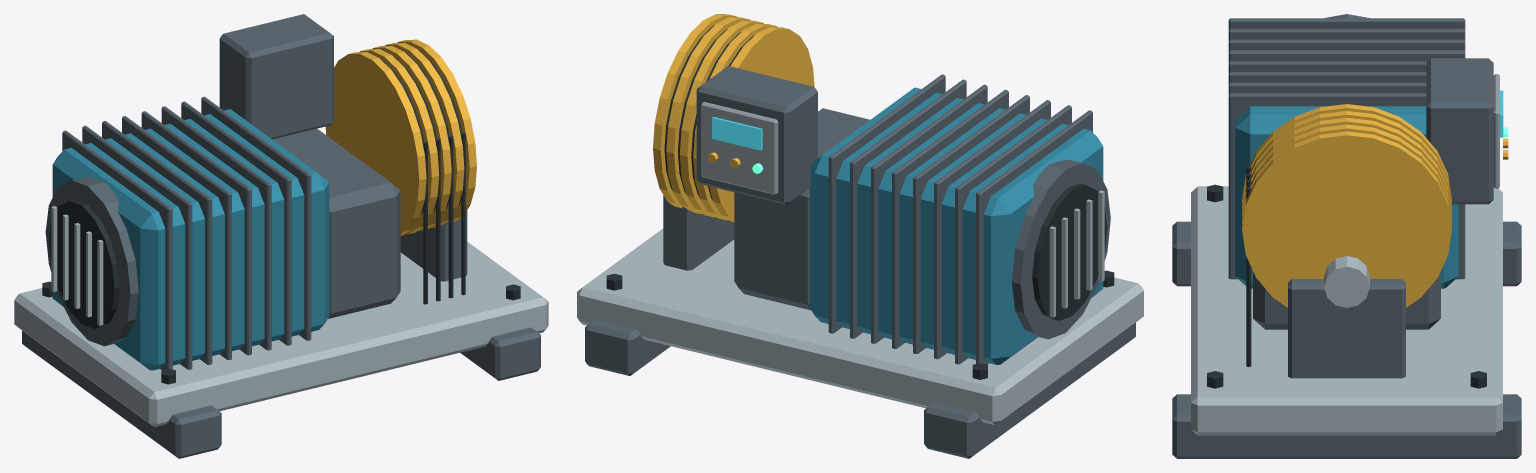
The model's file is 01_elevator_drive_unit.glb.
3 views of the same model, side by side, from view 1: azimuth 30°, elevation 25°; view 2: azimuth 150°, elevation 25°; view 3: azimuth 270°, elevation 25° (orthographic). The views are drawn at different scales.
Parts seen in each view (by area): view 1: 01_elevator_drive_unit; view 2: 01_elevator_drive_unit; view 3: 01_elevator_drive_unit.
Boxes of the visible parts, <box> form: 01_elevator_drive_unit: <box>14,14,548,458</box>; 01_elevator_drive_unit: <box>577,14,1143,458</box>; 01_elevator_drive_unit: <box>1172,14,1521,458</box>.
Size of the model in its own units: 1.93 by 1.26 by 1.3.
